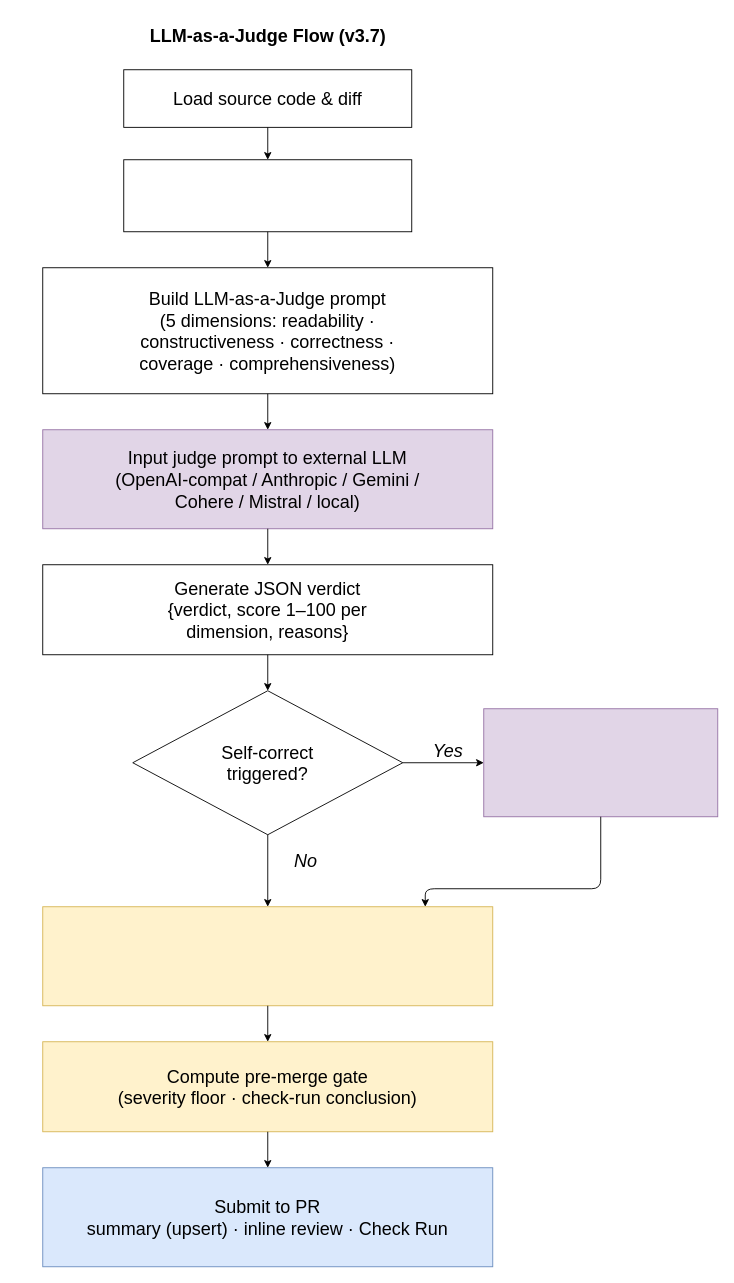
The diagram is 734 pixels wide and 1283 high, and some of its shapes have lost their labels. Each missing label, with the box of its shape:
Drop / revise low-confidence findings (self_review pass): (483, 708, 718, 817)
Load review results (step_outputs · inline_findings): (123, 159, 412, 232)
Map verdict → GitHub review event (APPROVE · REQUEST_CHANGES · COMMENT): (42, 906, 493, 1006)
